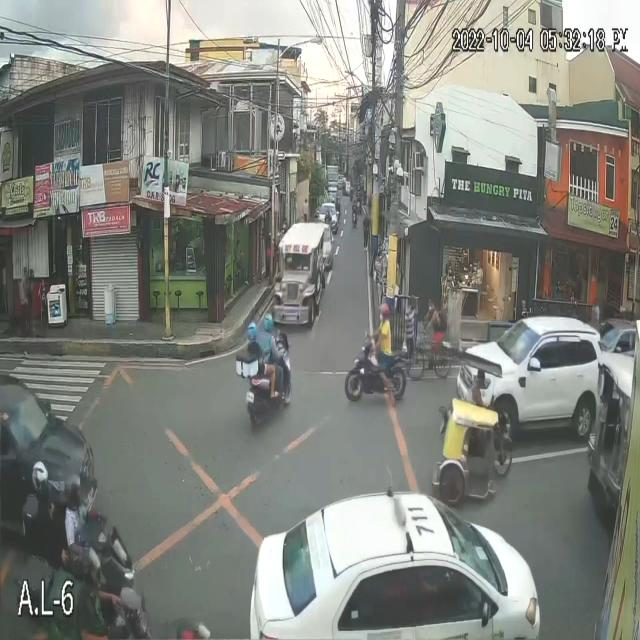Full-Faced: (72, 543, 101, 592), (31, 454, 53, 497), (64, 472, 86, 507), (376, 298, 390, 328), (260, 308, 275, 334), (250, 324, 262, 344), (351, 189, 360, 209)
